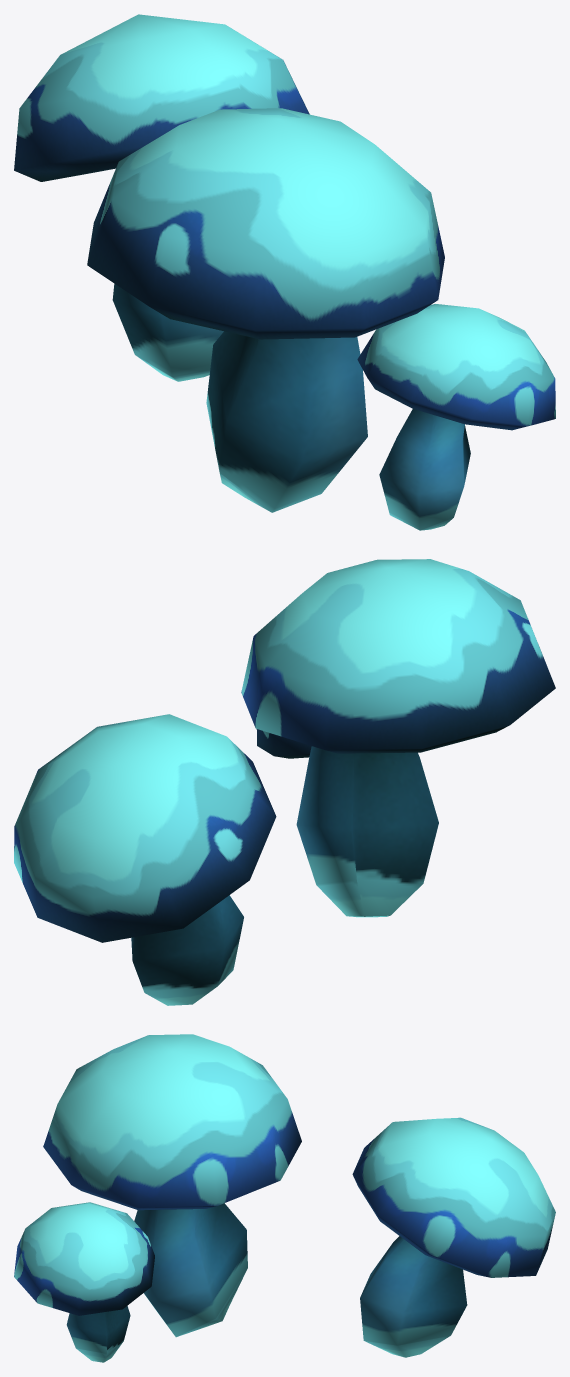
Rendered from Mushroom3.FBX.
3 renders of one model, top to bottom at view 1: azimuth 30°, elevation 25°; view 2: azimuth 150°, elevation 25°; view 3: azimuth 270°, elevation 25°, orthographic. The views are drawn at different scales.
Parts seen in each view (by area): view 1: Mushroom3; view 2: Mushroom3; view 3: Mushroom3.
Boxes of the visible parts, x1=… form: Mushroom3: x1=14, y1=14, x2=555, y2=530; Mushroom3: x1=14, y1=559, x2=555, y2=1005; Mushroom3: x1=14, y1=1034, x2=555, y2=1362.
Size of the model in its own units: 22.02 by 21.71 by 38.56.
Materials: 1 (1 with a texture image).
